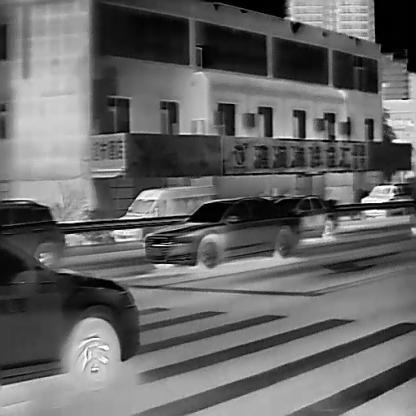car: (0, 236, 138, 389), (144, 195, 299, 272), (113, 184, 216, 241), (0, 197, 64, 268), (274, 195, 334, 240), (359, 181, 413, 216)
